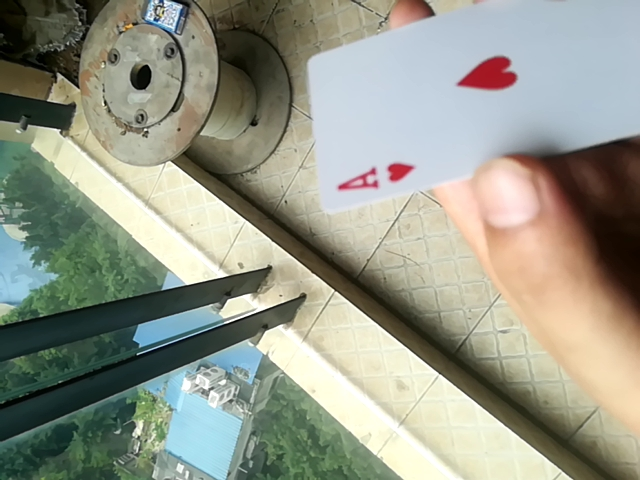hx a: (308, 1, 637, 212)
